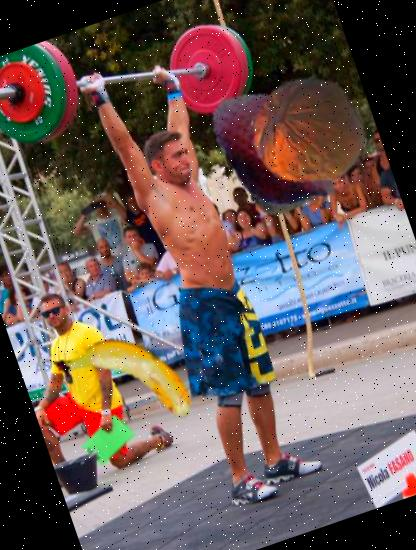Banana: (38, 290, 218, 468)
Beetroot: (242, 150, 327, 236)
Salak: (191, 56, 369, 234)
Walnut: (236, 56, 384, 205)
